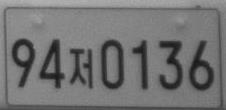0: (99, 38, 124, 89)
1: (129, 39, 154, 90)
3: (158, 39, 183, 90)
4: (38, 38, 65, 88)
6: (188, 39, 214, 91)
9: (11, 37, 36, 87)
저: (68, 47, 94, 89)
